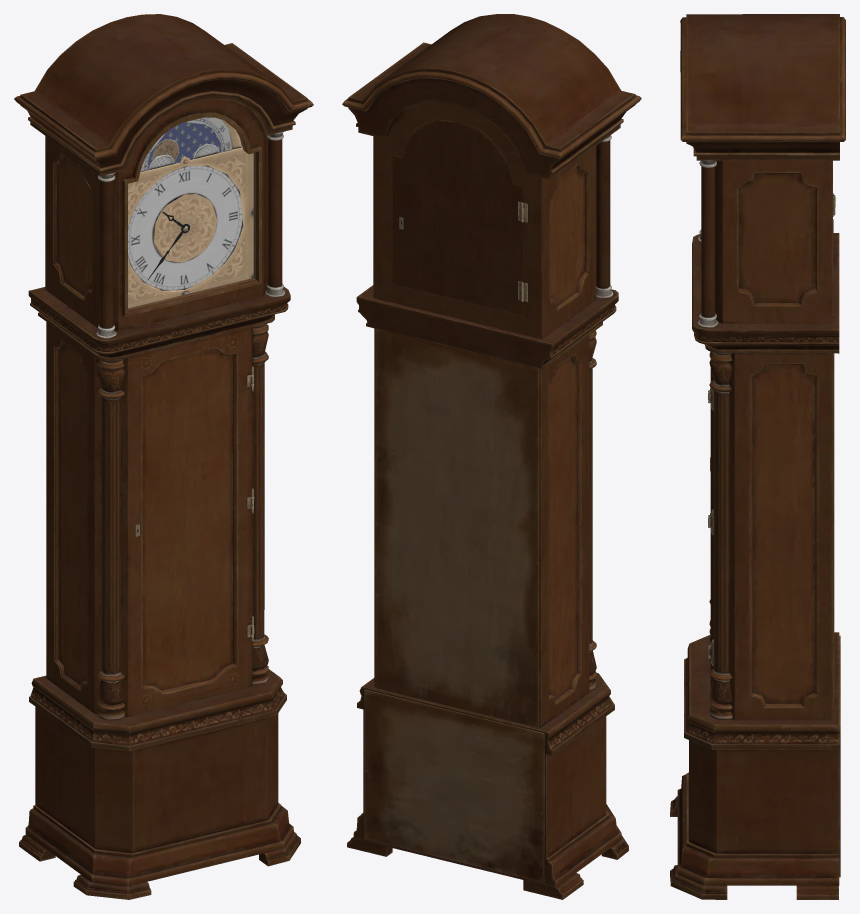
Rendered from vintage_grandfather_clock_01.glb.
3 renders of one model, left to right at view 1: azimuth 30°, elevation 25°; view 2: azimuth 150°, elevation 25°; view 3: azimuth 270°, elevation 25°, orthographic. The views are drawn at different scales.
Visible parts, largest first — view 1: vintage_grandfather_clock_01_Body; view 2: vintage_grandfather_clock_01_Body; view 3: vintage_grandfather_clock_01_Body.
Part boxes in pixels (bbox=[...]): vintage_grandfather_clock_01_Body: bbox=[14, 14, 313, 899]; vintage_grandfather_clock_01_Body: bbox=[342, 14, 641, 899]; vintage_grandfather_clock_01_Body: bbox=[670, 14, 845, 899].
Bounding box in the file's own units: 0.6255 × 2.19 × 0.4265.
2 materials, 1 textured.
